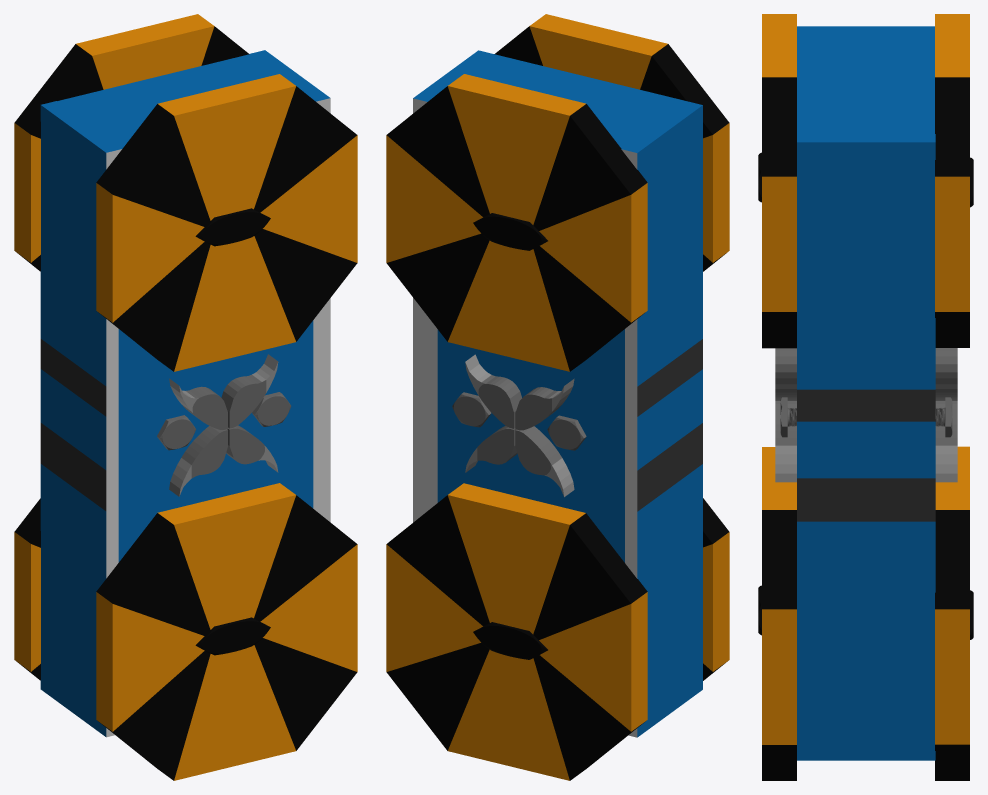
3 renders of one model, left to right at view 1: azimuth 30°, elevation 25°; view 2: azimuth 150°, elevation 25°; view 3: azimuth 270°, elevation 25°, orthographic. The views are drawn at different scales.
Parts seen in each view (by area): view 1: Cube, Cube.002, Cube.004, Cube.009, Cube.010, Cube.001, Cube.011, Bolt.001, Bolt.003, Cube.003, Cube.008; view 2: Cube, Cube.009, Cube.010, Cube.002, Cube.004, Cube.006, Cube.012, Bolt.002, Bolt.004, Cube.007, Cube.005; view 3: Cube, Cube.002, Cube.009, Cube.004, Cube.010, Cube.005, Cube.008, Cube.012, Cube.011, Cube.007.
Boxes of the visible parts, box(x1,y1,x2,y2) form: Cube: box(40, 50, 330, 737); Cube.002: box(96, 74, 357, 371); Cube.004: box(96, 483, 357, 780); Cube.009: box(14, 14, 249, 271); Cube.010: box(14, 498, 40, 680); Cube.001: box(169, 426, 227, 496); Cube.011: box(221, 354, 278, 428); Bolt.001: box(195, 208, 270, 246); Bolt.003: box(195, 617, 270, 655); Cube.003: box(169, 378, 227, 429); Cube.008: box(226, 425, 278, 472); Cube: box(413, 50, 702, 737); Cube.009: box(386, 74, 647, 371); Cube.010: box(386, 483, 647, 780); Cube.002: box(494, 14, 729, 271); Cube.004: box(703, 498, 729, 680); Cube.006: box(515, 426, 574, 497); Cube.012: box(465, 354, 521, 428); Bolt.002: box(473, 213, 547, 250); Bolt.004: box(473, 622, 547, 659); Cube.007: box(515, 378, 574, 430); Cube.005: box(465, 426, 517, 472); Cube: box(780, 26, 952, 760); Cube.002: box(762, 14, 796, 348); Cube.009: box(935, 14, 969, 347); Cube.004: box(762, 447, 796, 780); Cube.010: box(935, 446, 969, 780); Cube.005: box(935, 401, 957, 482); Cube.008: box(775, 401, 796, 482); Cube.012: box(935, 364, 957, 400); Cube.011: box(775, 364, 796, 400); Cube.007: box(935, 348, 957, 364).
Size of the model in its own units: 112 by 290 by 80.49.
